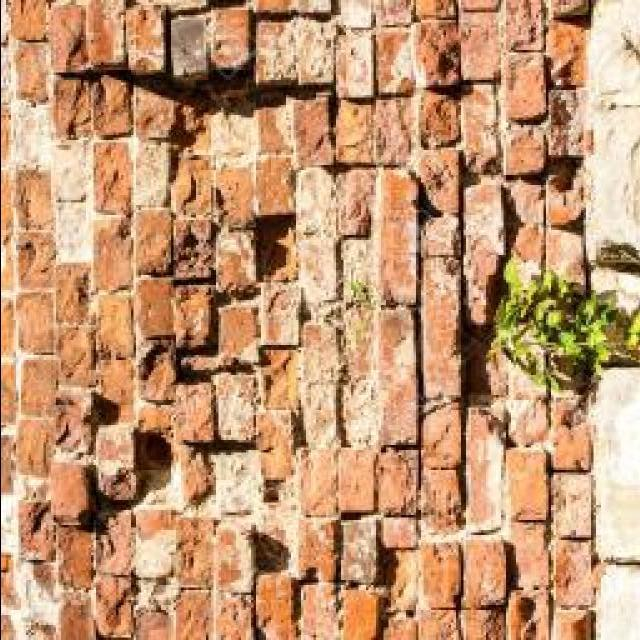Crack: (3, 0, 606, 638)
